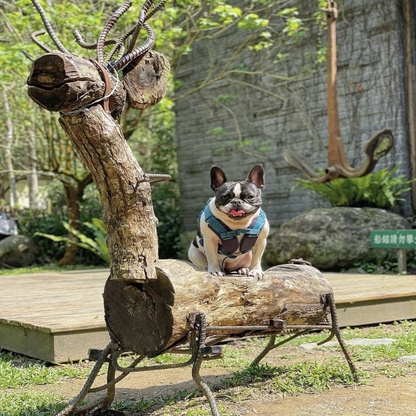bulldog: (185, 161, 268, 280)
